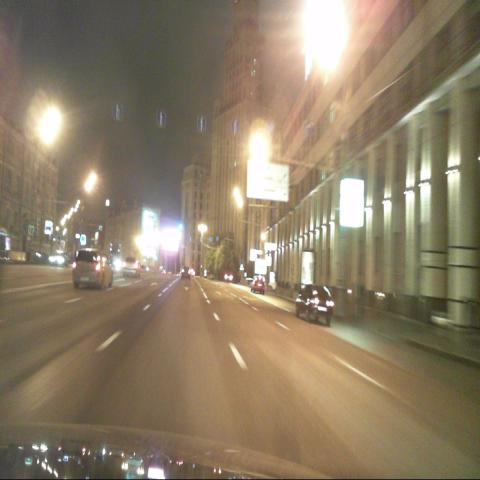5_15_2: (113, 104, 123, 121), (156, 110, 166, 127), (196, 115, 206, 132), (231, 119, 240, 134)
